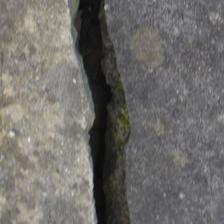Crack: (60, 4, 139, 218)
